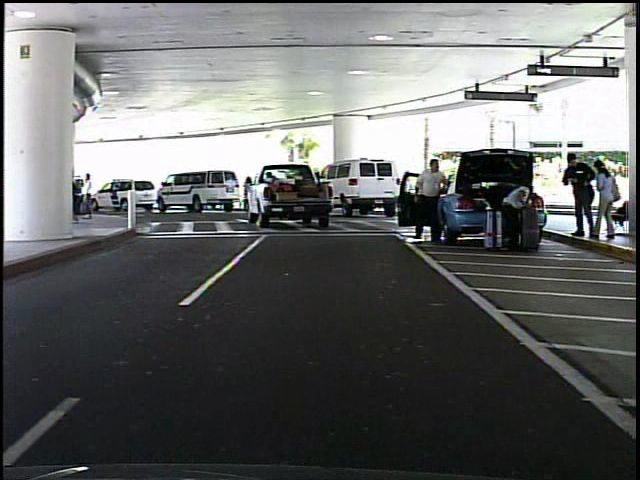person: (411, 157, 451, 244), (560, 149, 595, 243), (497, 173, 537, 253), (587, 157, 620, 247), (241, 174, 255, 211)
